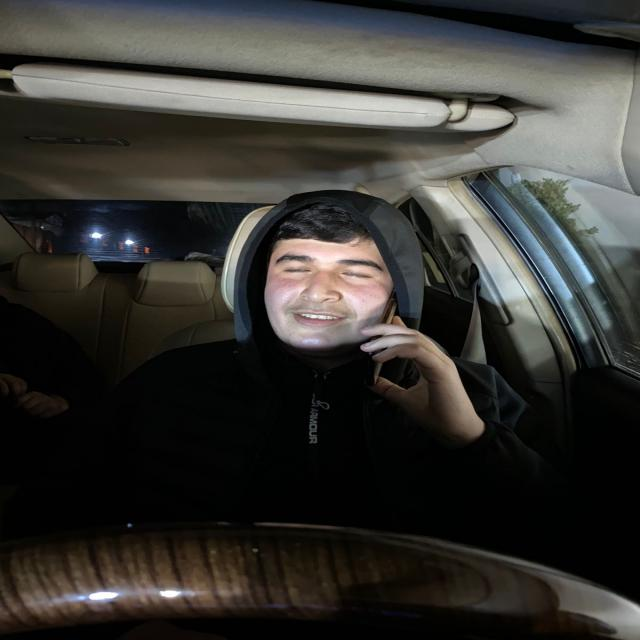mobile: (355, 293, 406, 397)
person: (262, 206, 396, 353)
